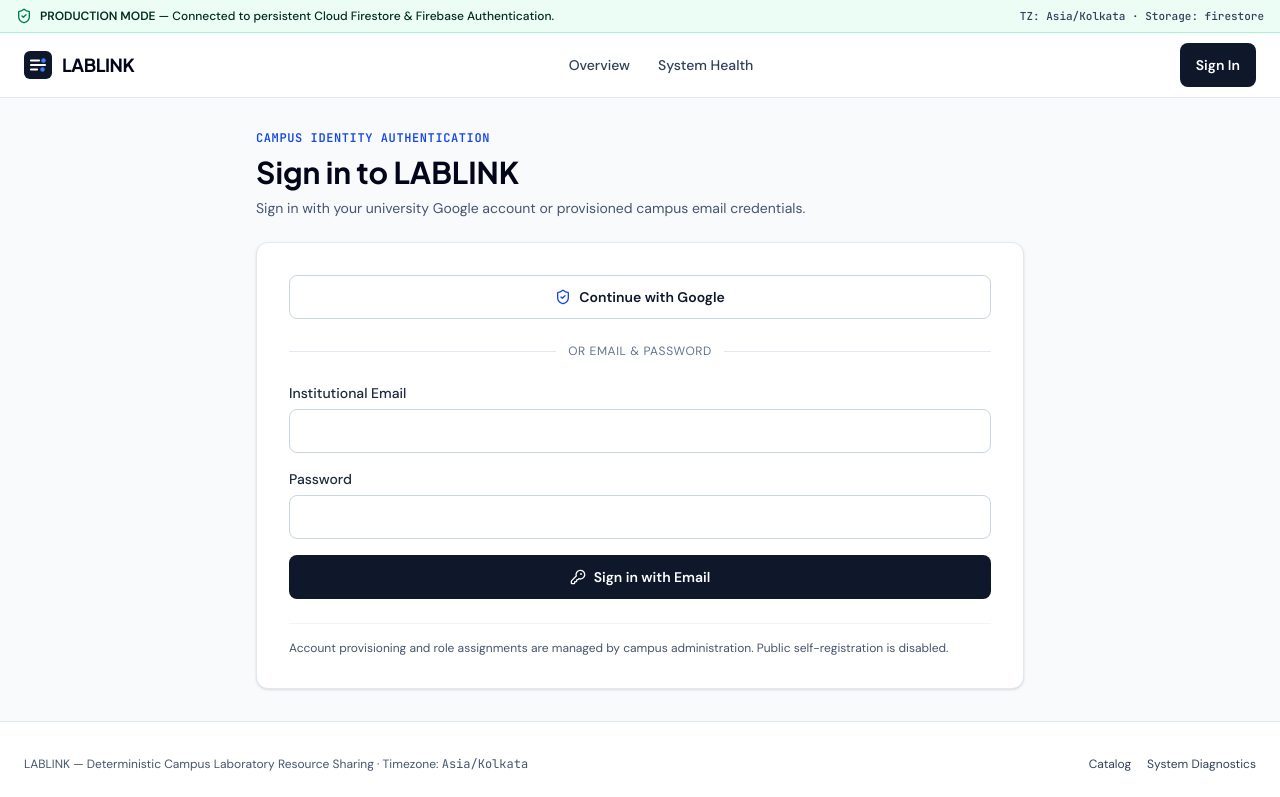
Test case: Authentication Modes, 401/403 Guards, and Login Accessibility › hides demo switcher in Firebase mode and displays auth error on failed login
Expected: the heading "Sign in to LABLINK" is shown, [256,153,519,191]
Expected: the text "PRODUCTION MODE" is shown, [40,8,156,24]
Click the button "Sign in with Email".
click(640, 577)  # box [289,555,991,599]
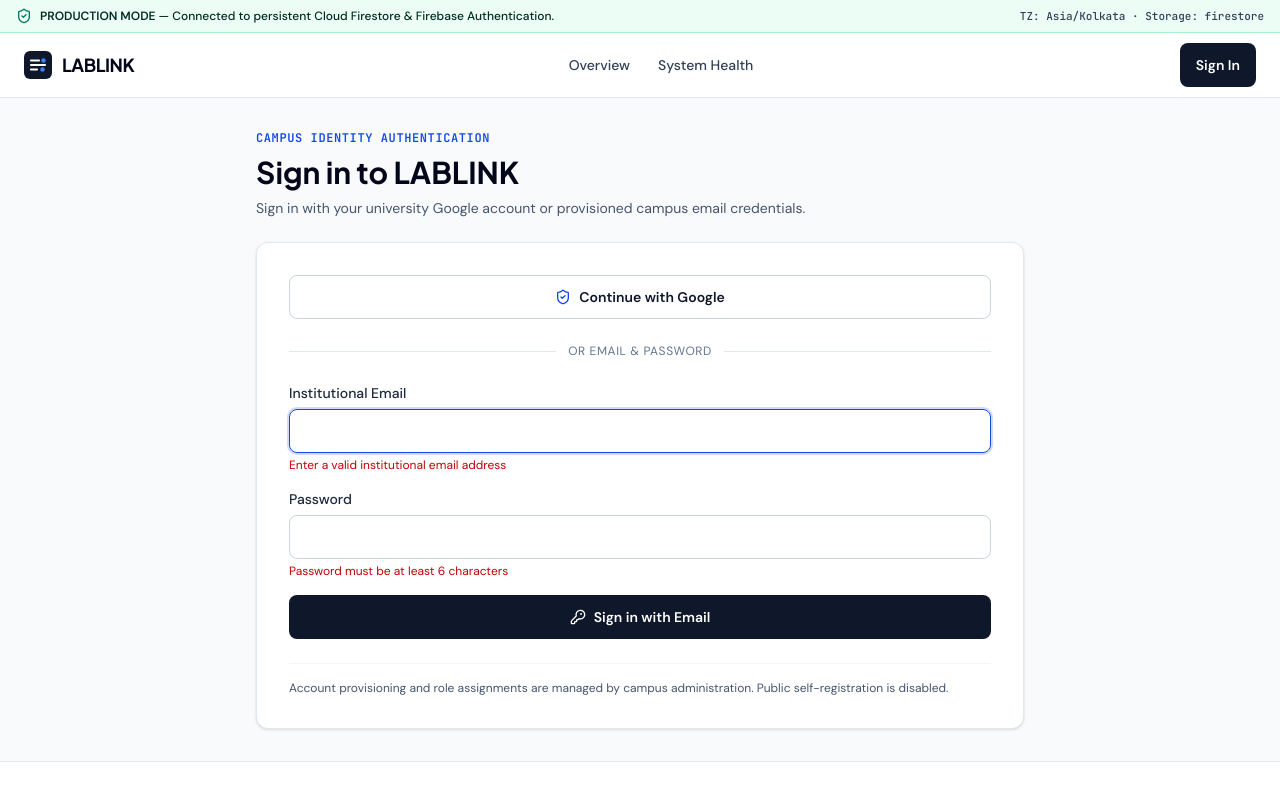
Now the text "Enter a valid institutional email address" is shown, box [289,457,506,473]
